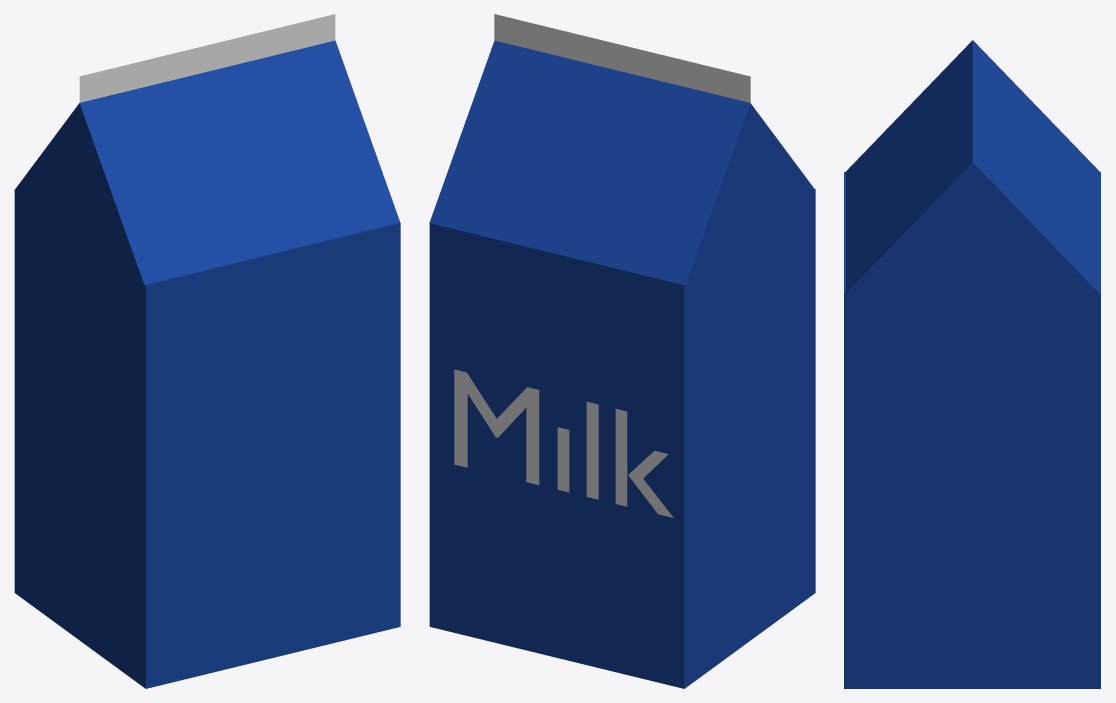
Rendered from Item_MilkCarton.glb.
3 views of the same model, side by side, from view 1: azimuth 30°, elevation 25°; view 2: azimuth 150°, elevation 25°; view 3: azimuth 270°, elevation 25° (orthographic). The views are drawn at different scales.
Visible parts, largest first — view 1: Item_MilkCarton; view 2: Item_MilkCarton; view 3: Item_MilkCarton.
Part boxes in pixels (<box>): Item_MilkCarton: <box>14,14,400,688</box>; Item_MilkCarton: <box>429,14,815,688</box>; Item_MilkCarton: <box>844,40,1100,688</box>.
Bounding box in the file's own units: 0.3959 × 0.8344 × 0.3527.
